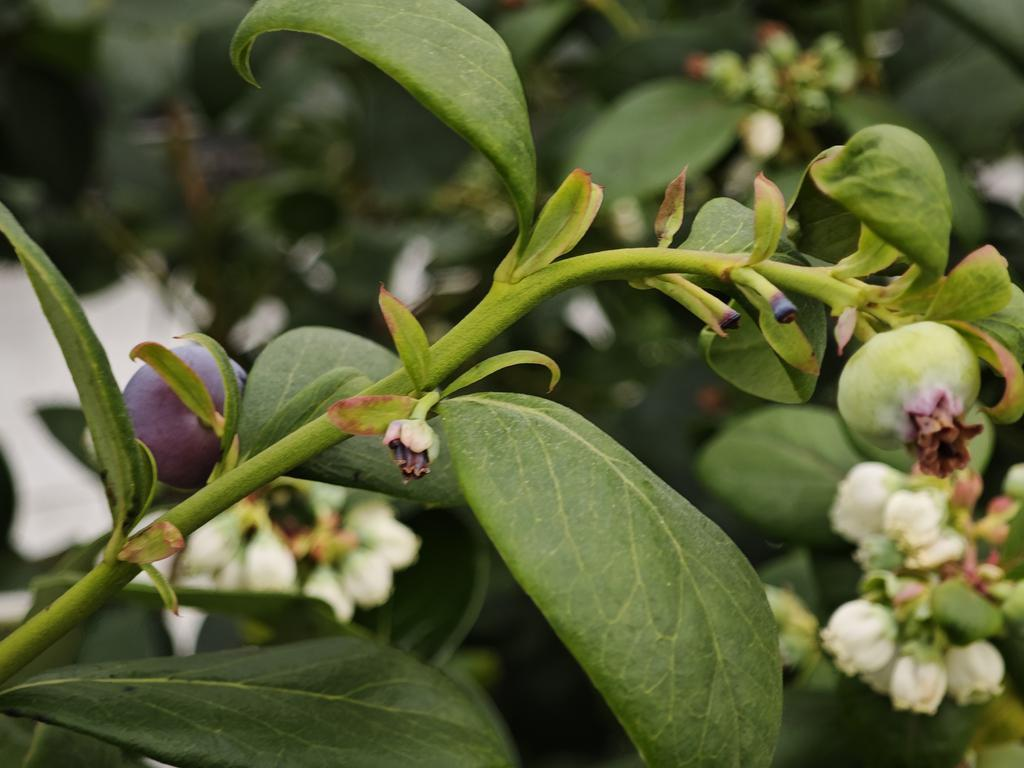Semi-RipeBlueBerry: (115, 338, 245, 487)
UnripeBlueBerry: (834, 320, 984, 454)
